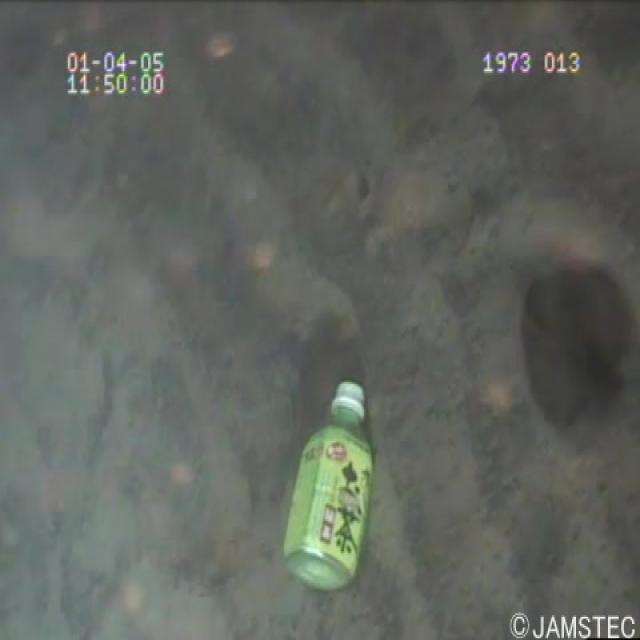plastic: (272, 363, 388, 592)
